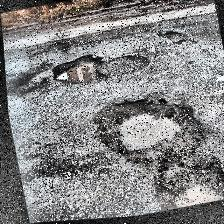pothole: (95, 90, 191, 162), (162, 171, 224, 211), (46, 51, 108, 91)
